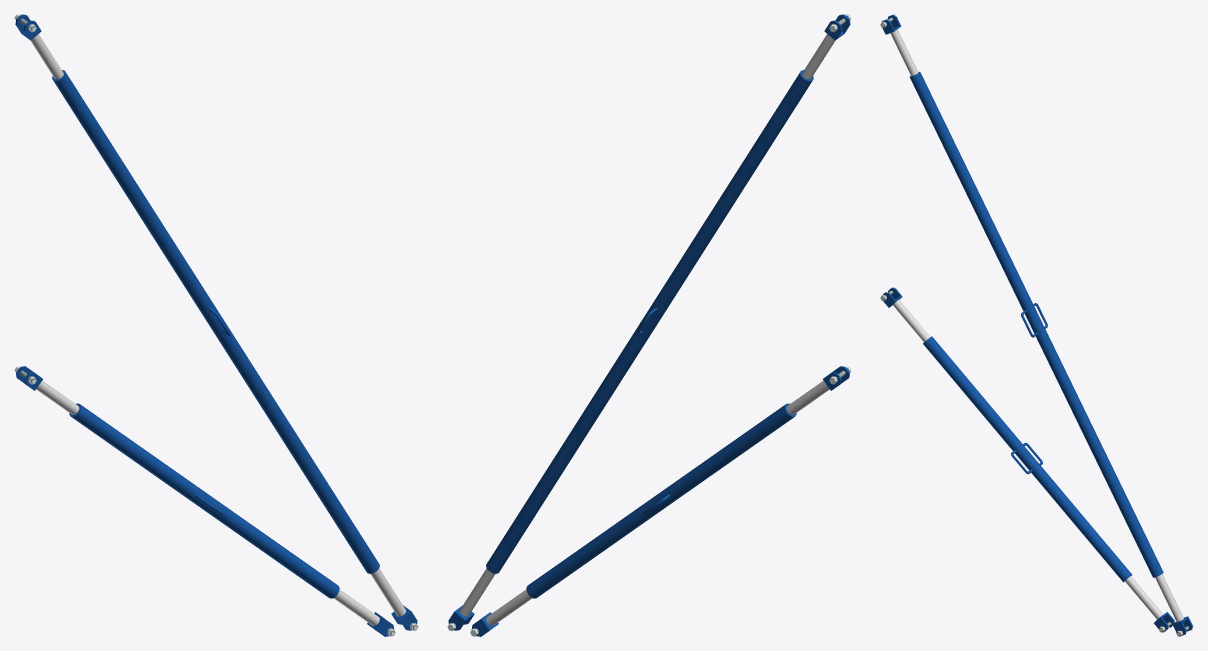
The model's file is xiezhicheng.FBX.
3 renders of one model, left to right at view 1: azimuth 30°, elevation 25°; view 2: azimuth 150°, elevation 25°; view 3: azimuth 330°, elevation 25°, orthographic. The views are drawn at different scales.
Visible parts, largest first — view 1: xiezhicheng; view 2: xiezhicheng; view 3: xiezhicheng.
Boxes of the visible parts, left/top/right/bottom form: xiezhicheng: left=14, top=14, right=418, bottom=636; xiezhicheng: left=447, top=14, right=851, bottom=636; xiezhicheng: left=880, top=14, right=1193, bottom=636.
Bounding box in the file's own units: 117 × 199 × 10.58.
Materials: 2 (2 with a texture image).
